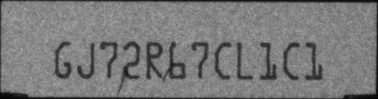1: (258, 40, 278, 79), (305, 41, 323, 80)
2: (123, 39, 141, 80)
6: (168, 40, 187, 80)
7: (191, 40, 209, 78), (100, 40, 117, 79)
C: (282, 40, 300, 80), (214, 41, 231, 80)
G: (54, 41, 72, 79)
J: (76, 41, 96, 79)
L: (236, 41, 254, 79)
R: (145, 39, 163, 81)
